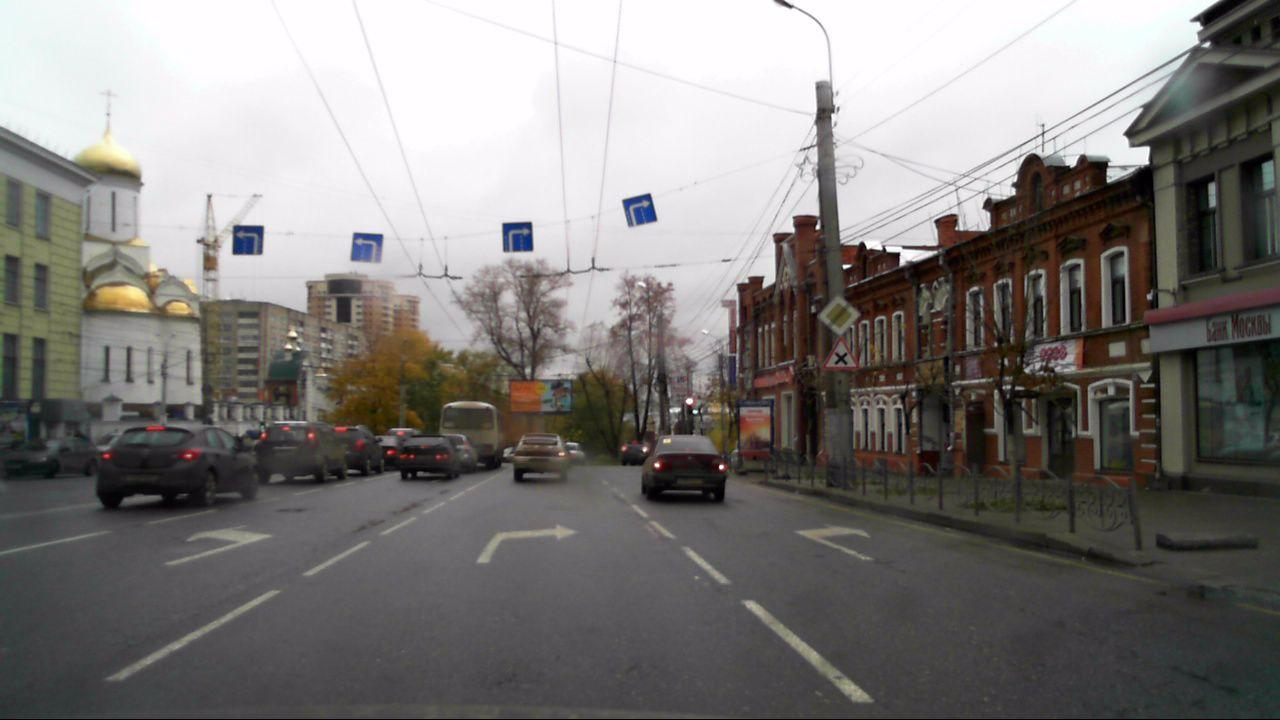1_6: (821, 336, 861, 371)
2_2: (816, 294, 862, 336)
5_15_2: (619, 189, 657, 227), (347, 227, 383, 263), (499, 218, 536, 252), (231, 224, 265, 257)
